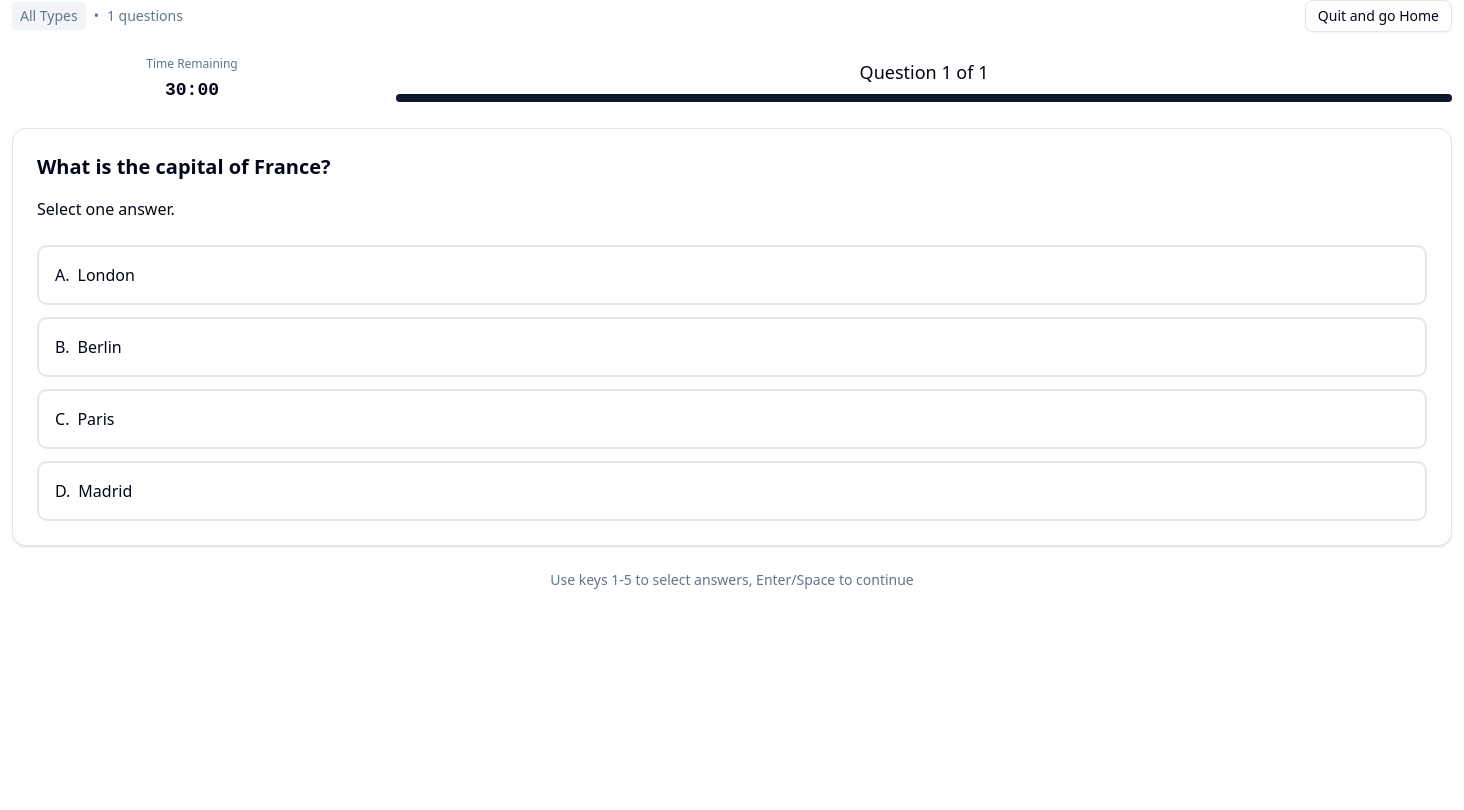
Test: QuizApp › runs through a single-question flow and shows results
This screenshot has width=1464, height=810.
// Select the correct answer (index 2)
Click the radio button labelled "C. Paris".
click(96, 419)  # box [37,389,1427,449]
(page scrolled)
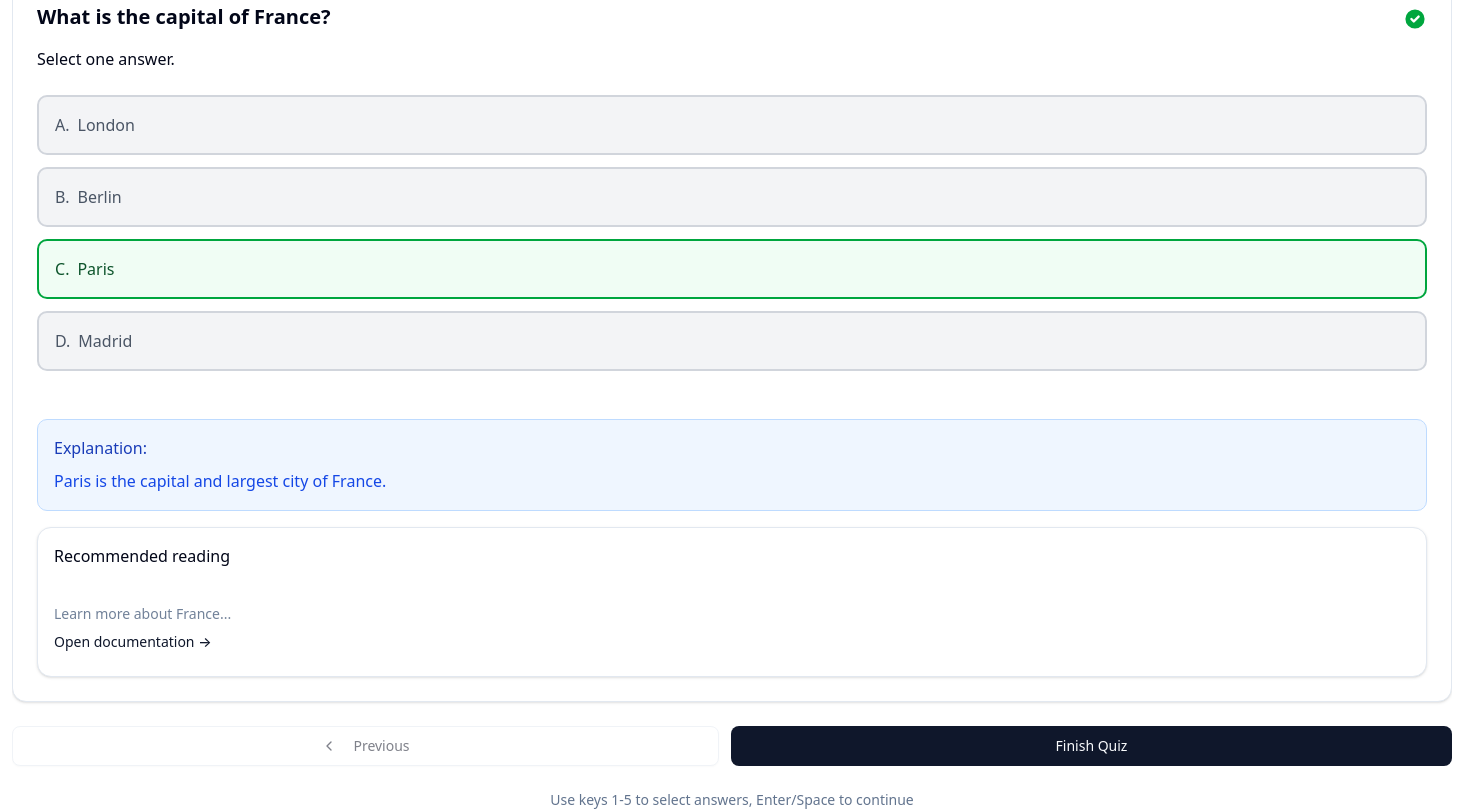
// After single-select, feedback is shown with Finish button
Click the button "Finish Quiz".
click(1092, 746)  # box [731,726,1452,766]
(page scrolled)
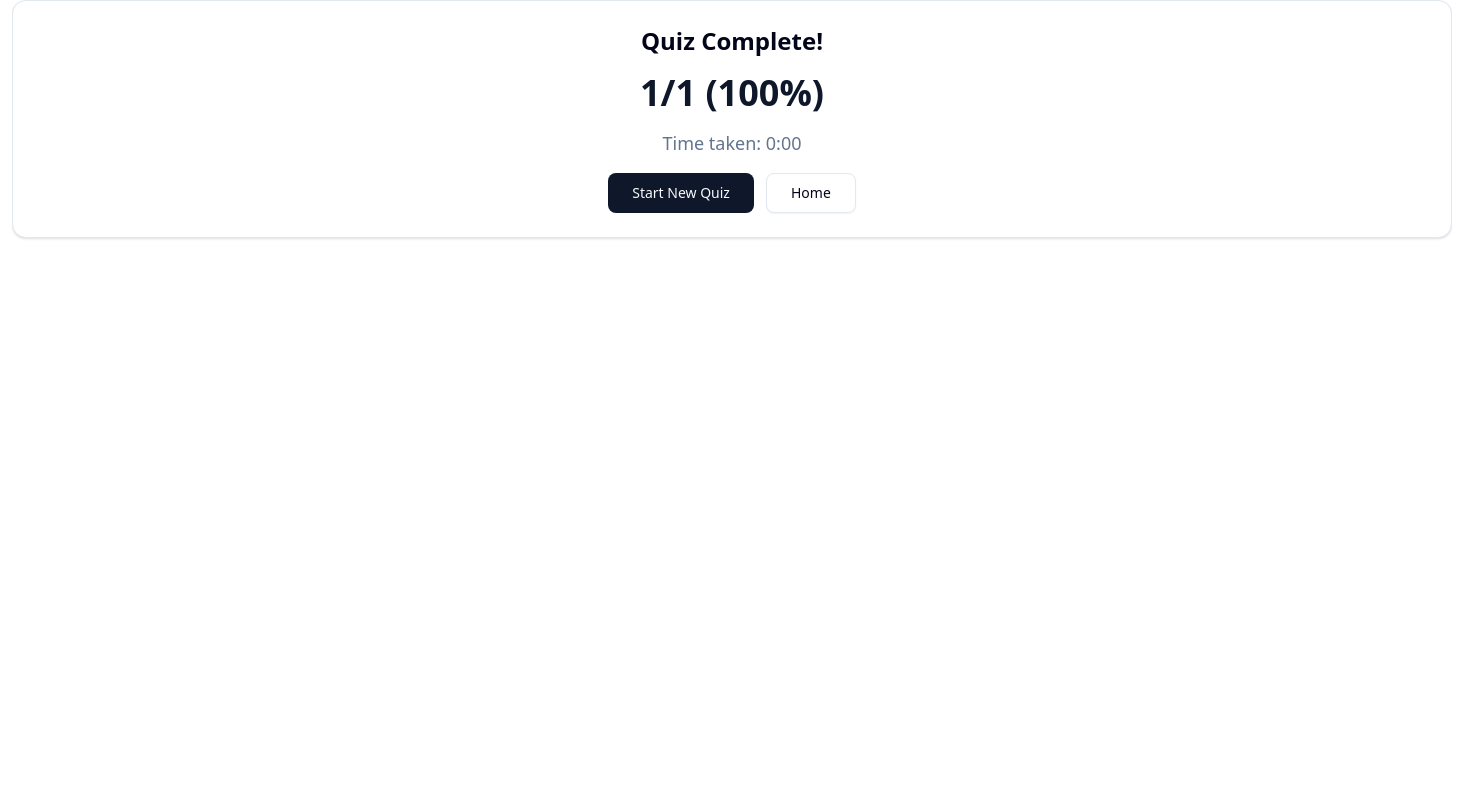
Check: the heading "Quiz Complete!" is shown, box [641,24,823,57]
Check: the text "1/1 (100%)" is shown, box [640,68,824,117]
